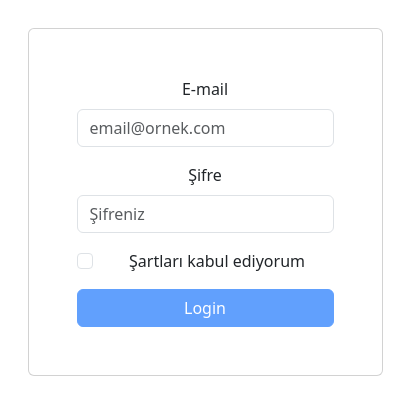
Test: Kayıt Formu Testleri › Hatalı Durum Kontrolleri › Email yanlış girildiğinde beklenen kontroller
Type "yanlis-email" into the field named "email" at (206, 128), box [77,109,334,147]
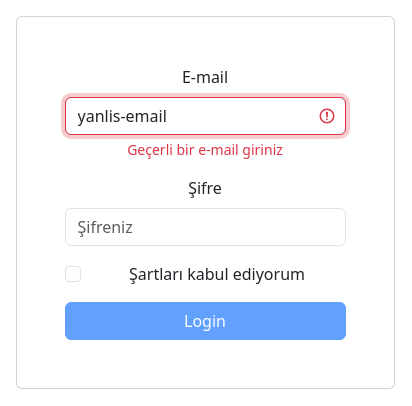
Expected: the button "Login" is disabled, [65,302,346,340]
Expected: the text "Geçerli bir e-mail giriniz" is shown, [127,140,283,158]
